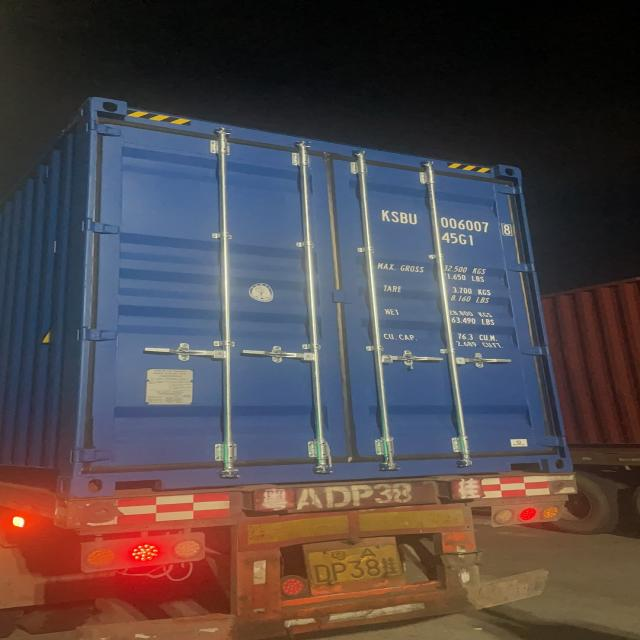seal: (403, 348, 418, 374)
